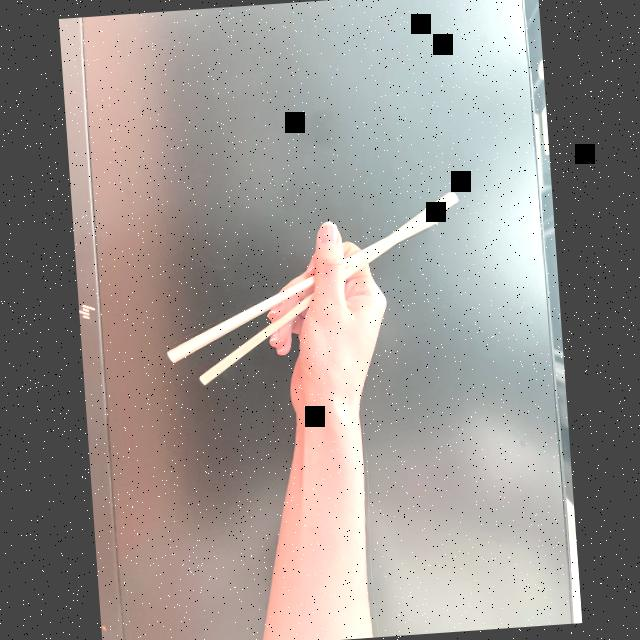stick: (155, 192, 472, 412)
